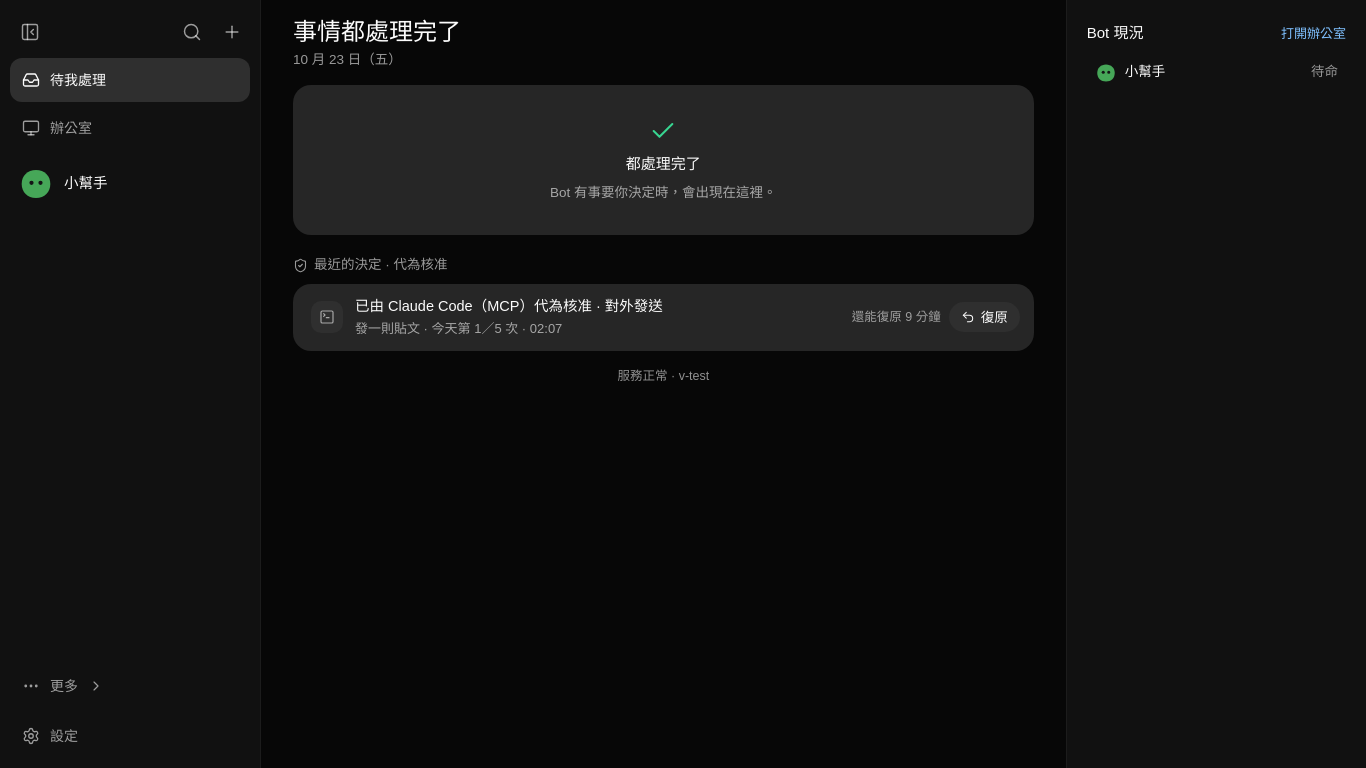
Scenario: 待我處理：代為核准紀錄卡 › 10 分鐘內可以復原，復原後顯示已復原
Expected: the text "已由 Claude Code（MCP）代為核准 · 對外發送" is shown, [355, 298, 663, 314]
Expected: the text "還能復原 9 分鐘" is shown, [852, 308, 941, 327]
Step 1. Click the button "復原" → click(984, 317), box [949, 302, 1020, 332]
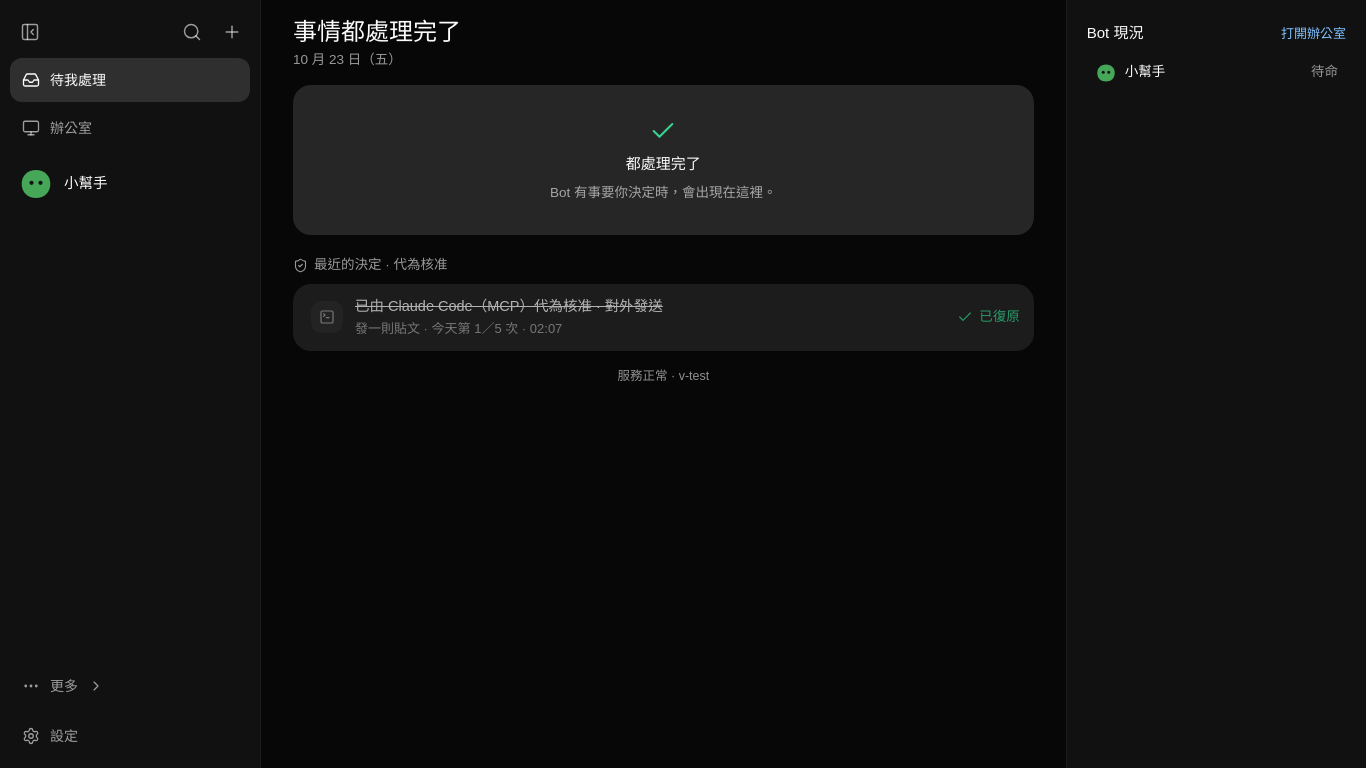
Result: the element with test id "inbox-delegated" shows "已復原" at [979, 309, 1020, 324]
